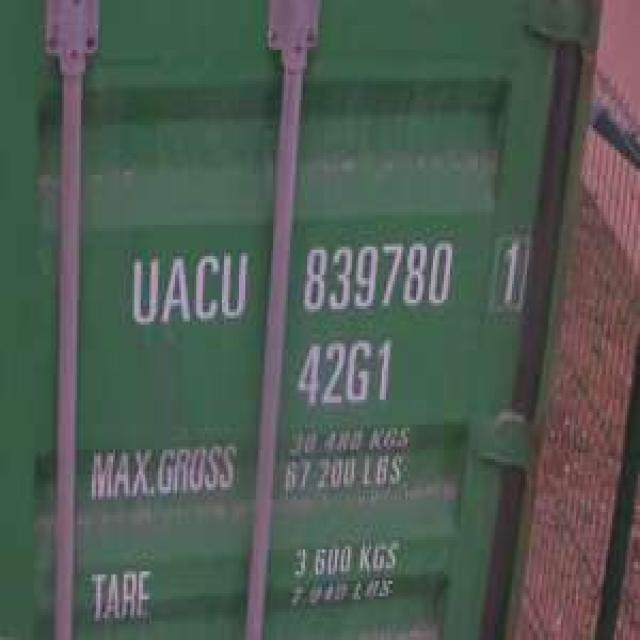dv: (484, 225, 529, 315)
owner: (121, 240, 252, 334)
serial: (294, 231, 456, 318)
size: (288, 331, 395, 415)
